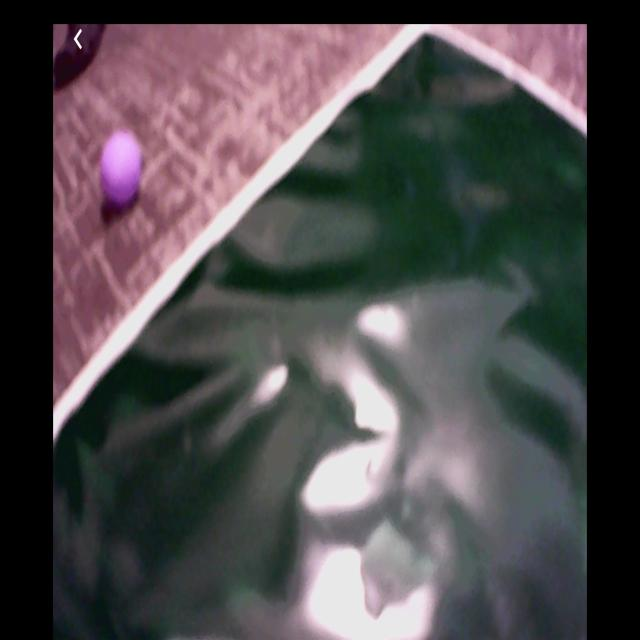ball: (99, 131, 143, 205)
